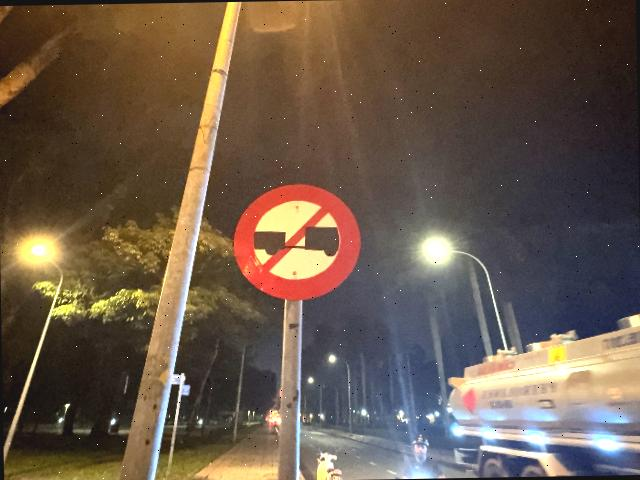cam-xe-somi-romooc: (233, 181, 362, 300)
